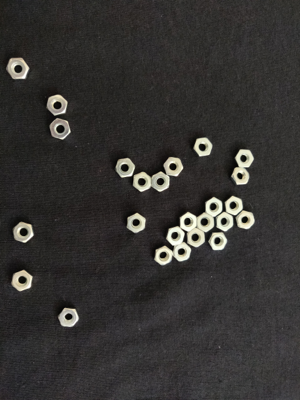nut: (6, 58, 31, 81), (48, 118, 72, 140), (11, 270, 35, 292), (12, 222, 35, 244), (56, 307, 80, 328), (46, 95, 69, 116), (115, 158, 137, 179), (126, 213, 147, 234), (162, 157, 184, 177), (191, 138, 214, 157), (234, 149, 255, 169), (235, 210, 256, 230), (178, 211, 198, 232), (153, 246, 174, 266), (186, 228, 206, 248), (133, 172, 152, 193), (230, 167, 251, 186), (207, 232, 228, 251), (197, 212, 216, 233), (225, 196, 244, 216), (216, 212, 235, 232), (166, 227, 186, 246), (173, 242, 192, 262), (152, 172, 170, 193), (205, 198, 223, 218)
